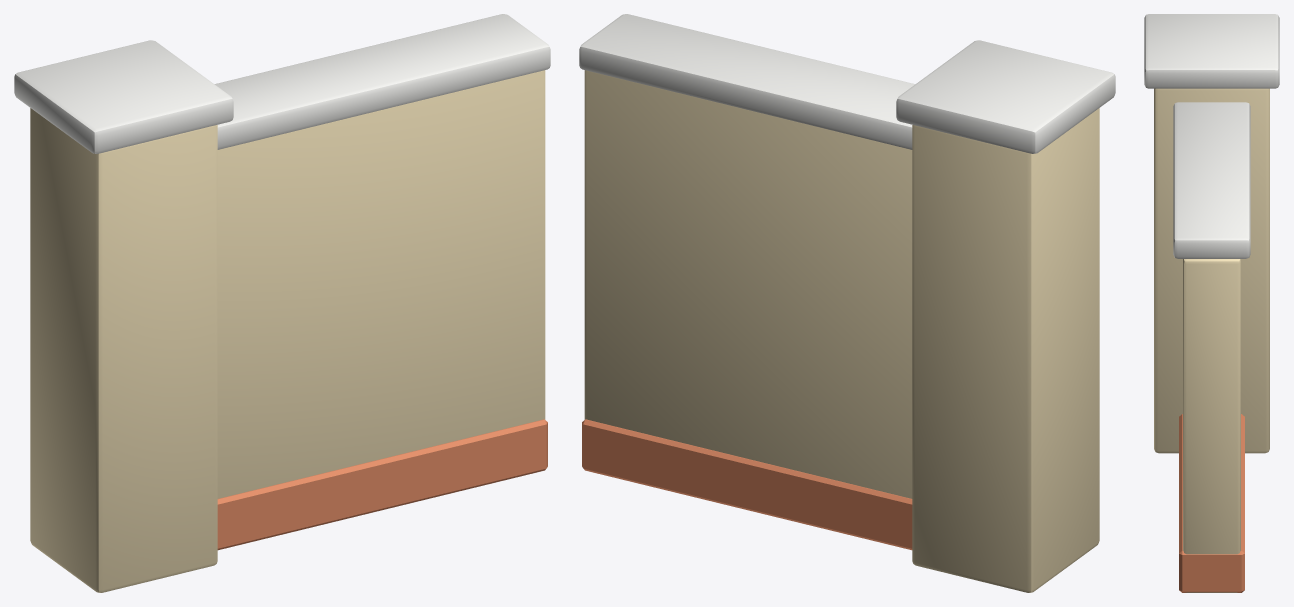
Rendered from cerca_muro_1m.glb.
3 renders of one model, left to right at view 1: azimuth 30°, elevation 25°; view 2: azimuth 150°, elevation 25°; view 3: azimuth 270°, elevation 25°, orthographic. The views are drawn at different scales.
Parts seen in each view (by area): view 1: cerca_muro_1m; view 2: cerca_muro_1m; view 3: cerca_muro_1m.
Part boxes in pixels (box(x1,y1,x2,y2)): cerca_muro_1m: box(14, 14, 550, 592); cerca_muro_1m: box(579, 14, 1115, 592); cerca_muro_1m: box(1144, 14, 1279, 592).
Bounding box in the file's own units: 1.18 × 1.11 × 0.35.
1 material, 1 textured.
